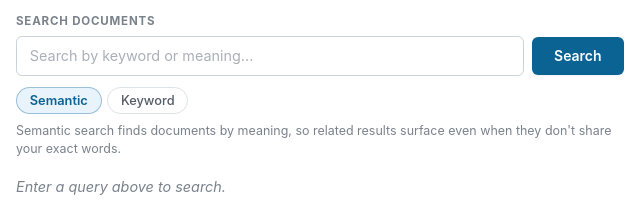
Test case: SearchPanel › switches to keyword mode via the toggle
The width and height of the screenshot is (641, 212).
Click the button "Keyword": (148, 100) 107,87 -> 188,114
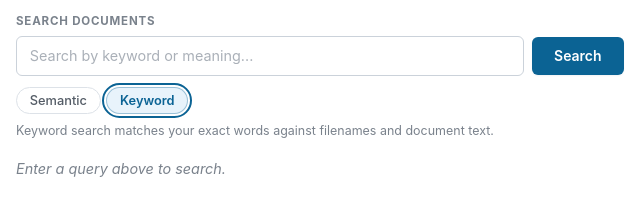
Result: the text "Keyword search matches your exact words" is shown at 16,123 -> 494,138
